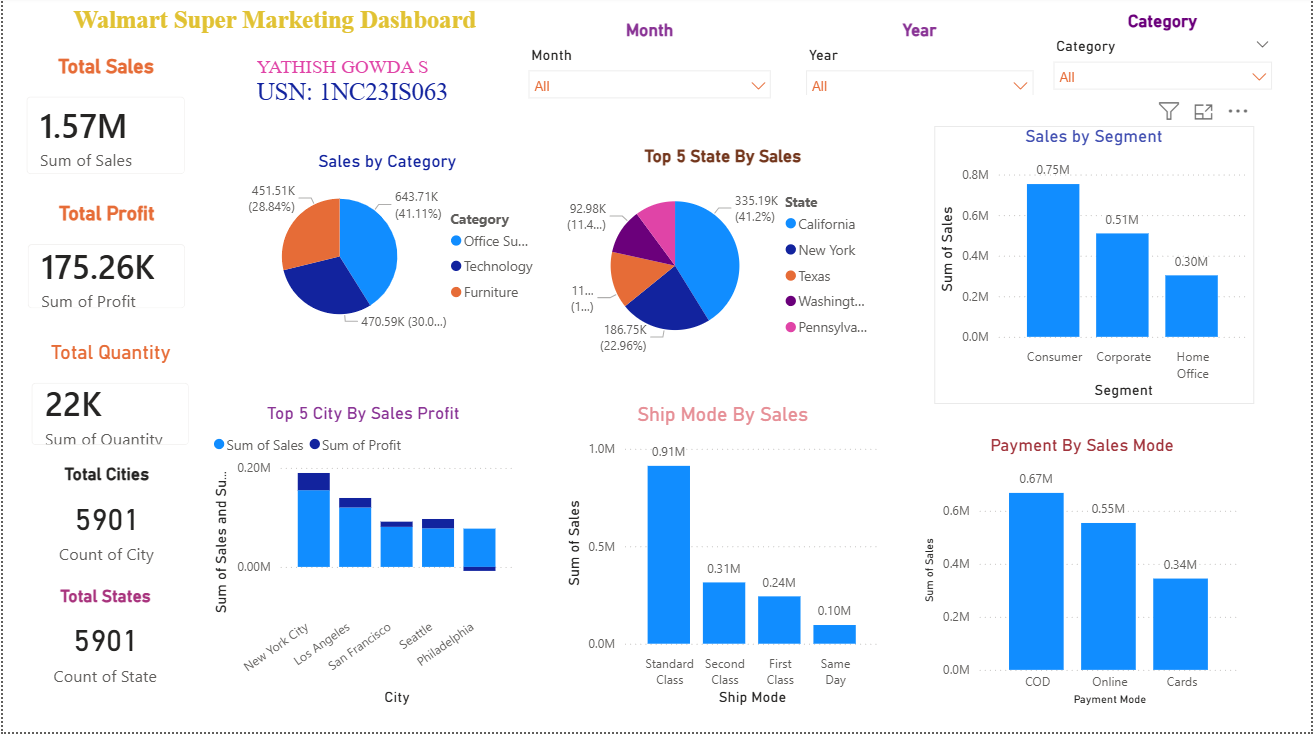

This screenshot's page, from the dashboard's own definition file:
{"tool":"powerbi","page":{"name":"Page 1","canvas":[1280,720],"ordinal":0},"visuals":[{"type":"textbox","box":[0,5,577.5,57.5],"z":0},{"type":"cardVisual","title":"Total Sales","fields":{"Data":["Sum(SuperStore_Sales_Dataset (1).Sales)"]},"box":[6.1,57.5,189.5,134.5],"z":1000},{"type":"cardVisual","title":"Total Profit","fields":{"Data":["Sum(SuperStore_Sales_Dataset (1).Profit)"]},"box":[7.3,201.8,188.3,121.1],"z":2000},{"type":"cardVisual","title":"Total Quantity","fields":{"Data":["Sum(SuperStore_Sales_Dataset (1).Quantity)"]},"box":[10.7,337.5,188.7,119.6],"z":3000},{"type":"card","title":"Total States ","fields":{"Values":["CountNonNull(SuperStore_Sales_Dataset (1).State)"]},"box":[0,577.2,200.5,105.2],"z":4000},{"type":"card","title":"Total Cities","fields":{"Values":["CountNonNull(SuperStore_Sales_Dataset (1).City)"]},"box":[18.3,457.3,166.3,106.4],"z":5000},{"type":"pieChart","title":"Sales by Category","fields":{"Y":["Sum(SuperStore_Sales_Dataset (1).Sales)"],"Category":["SuperStore_Sales_Dataset (1).Category"]},"box":[216.4,151.6,319.2,185.9],"z":6000},{"type":"pieChart","title":"Top 5 State By Sales","fields":{"Category":["SuperStore_Sales_Dataset (1).State"],"Y":["Sum(SuperStore_Sales_Dataset (1).Sales)"]},"box":[545,146.2,317.5,213.8],"z":7000},{"type":"columnChart","title":"Sales by Segment","fields":{"Y":["Sum(SuperStore_Sales_Dataset (1).Sales)"],"Category":["SuperStore_Sales_Dataset (1).Segment"]},"box":[911.2,127.5,312.5,271.2],"z":8000},{"type":"columnChart","title":"Top 5 City By Sales Profit","fields":{"Category":["SuperStore_Sales_Dataset (1).City"],"Y":["Sum(SuperStore_Sales_Dataset (1).Sales)","Sum(SuperStore_Sales_Dataset (1).Profit)"]},"box":[200,397.5,303.8,301.2],"z":9000},{"type":"columnChart","title":"Ship Mode By Sales","fields":{"Category":["SuperStore_Sales_Dataset (1).Ship Mode"],"Y":["Sum(SuperStore_Sales_Dataset (1).Sales)"]},"box":[545,398.8,317.5,300],"z":10000},{"type":"columnChart","title":"Payment By Sales Mode","fields":{"Category":["SuperStore_Sales_Dataset (1).Payment Mode"],"Y":["Sum(SuperStore_Sales_Dataset (1).Sales)"]},"box":[896.2,428.8,318.8,270],"z":11000},{"type":"slicer","title":"Month","fields":{"Values":["SuperStore_Sales_Dataset (1).Month"]},"box":[503.8,23.8,257.5,86.2],"z":12000},{"type":"slicer","title":"Year","fields":{"Values":["SuperStore_Sales_Dataset (1).Year"]},"box":[775,23.8,242.5,73.8],"z":13000},{"type":"slicer","title":"Category","fields":{"Values":["SuperStore_Sales_Dataset (1).Category"]},"box":[1017.5,15,233.8,83.8],"z":14000},{"type":"textbox","box":[243.3,53.8,216.4,70.9],"z":15000}]}

Visuals, with their boxes in screenshot pixels (x1, y1, x2, y2), scaled from the page's 1280x720 canvas onto the 1313x737 screenshot:
textbox: 0/5/592/64
"Total Sales" cardVisual: 6/59/201/197
"Total Profit" cardVisual: 7/207/201/331
"Total Quantity" cardVisual: 11/345/205/468
"Total States " card: 0/591/206/699
"Total Cities" card: 19/468/189/577
"Sales by Category" pieChart: 222/155/549/345
"Top 5 State By Sales" pieChart: 559/150/885/368
"Sales by Segment" columnChart: 935/131/1255/408
"Top 5 City By Sales Profit" columnChart: 205/407/517/715
"Ship Mode By Sales" columnChart: 559/408/885/715
"Payment By Sales Mode" columnChart: 919/439/1246/715
"Month" slicer: 517/24/781/113
"Year" slicer: 795/24/1044/100
"Category" slicer: 1044/15/1284/101
textbox: 250/55/472/128
